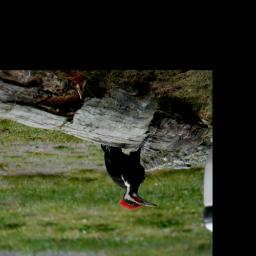Woodpecker: (100, 140, 157, 214)
